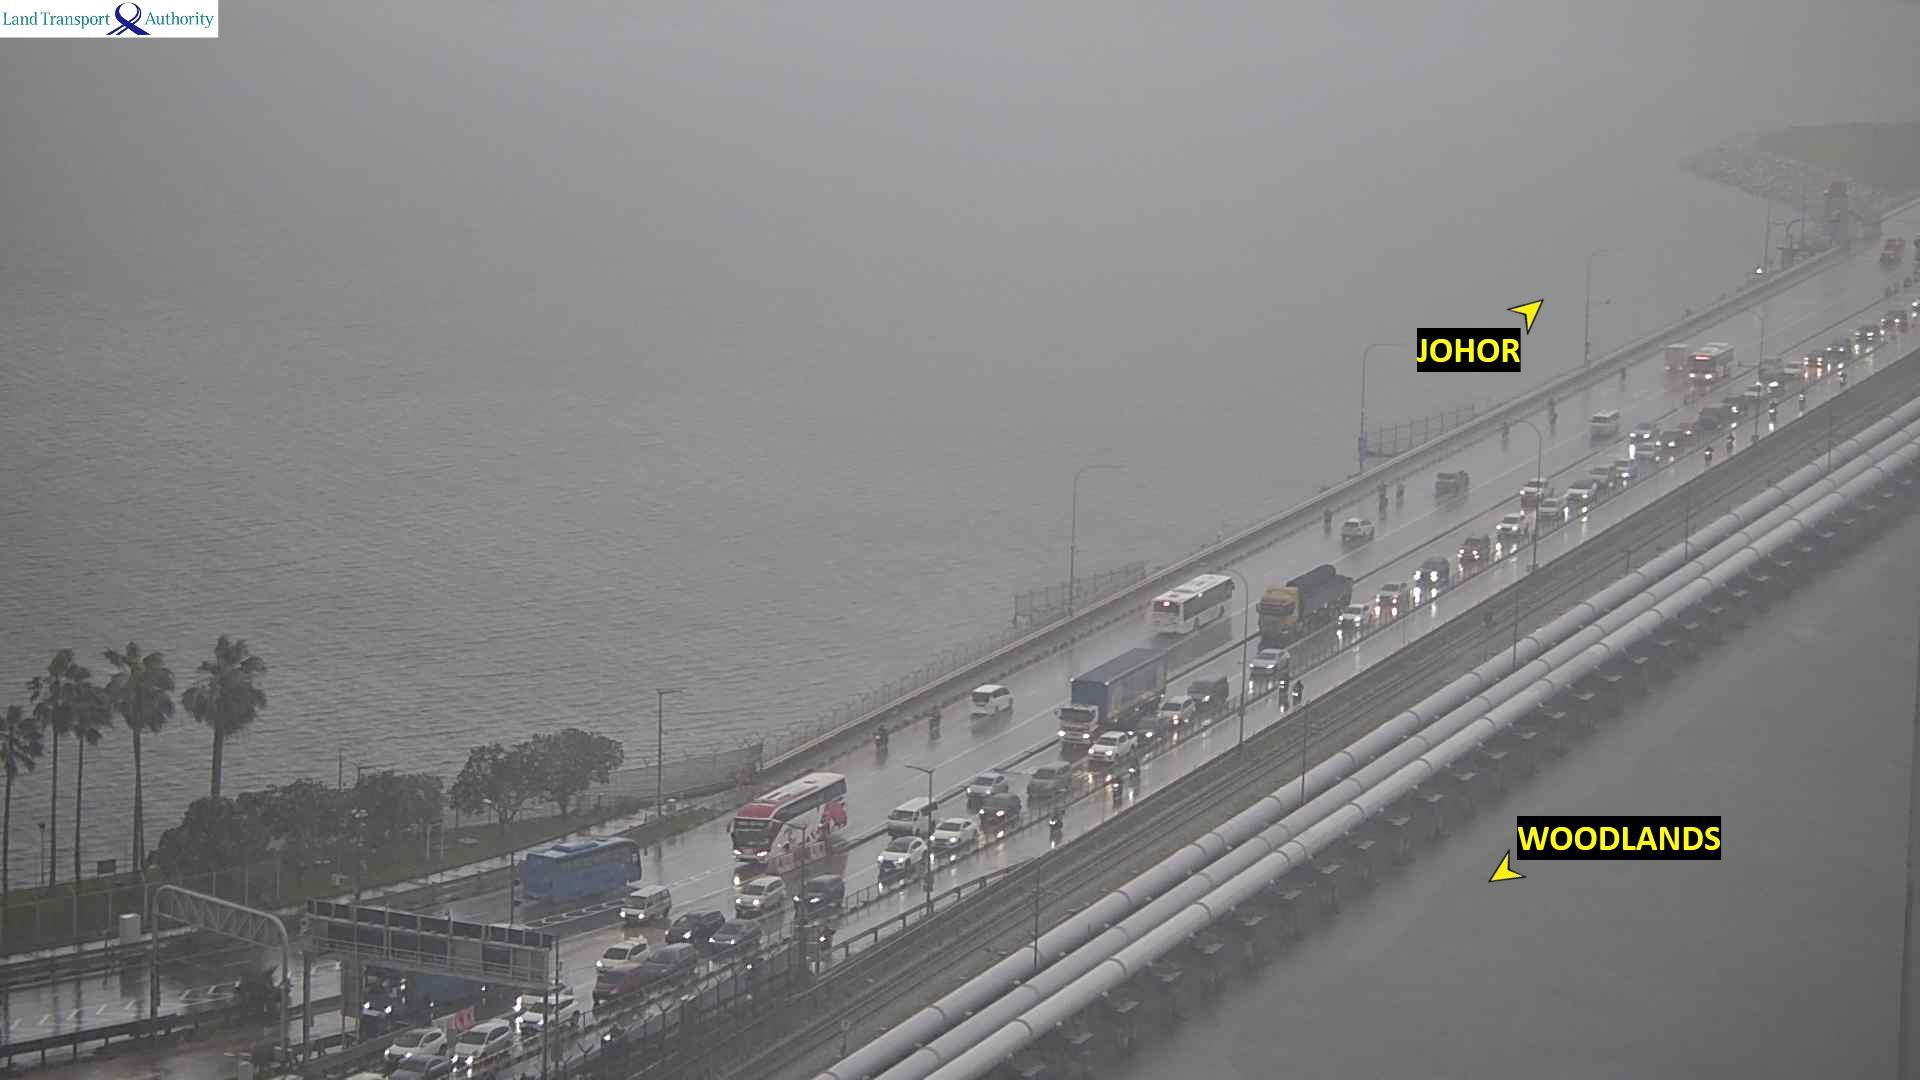vehicle-causeway-johor: (526, 837, 639, 900), (1156, 578, 1234, 610), (1689, 343, 1735, 383), (970, 685, 1011, 715), (1343, 520, 1377, 543), (1879, 238, 1904, 267), (1437, 472, 1474, 491), (1592, 411, 1620, 435), (1667, 343, 1688, 372), (872, 722, 887, 749), (1378, 483, 1390, 514), (928, 707, 940, 736), (1547, 399, 1558, 422), (1323, 505, 1333, 527), (1396, 481, 1406, 499), (1622, 368, 1627, 381)
vehicle-causeway-singapore: (1059, 651, 1168, 747), (733, 774, 845, 862), (1260, 565, 1352, 642), (360, 975, 504, 1024), (448, 1028, 515, 1067), (521, 997, 577, 1033), (662, 907, 722, 939), (388, 1030, 452, 1060), (735, 876, 782, 916), (888, 798, 937, 835), (795, 875, 844, 912), (644, 944, 695, 979), (620, 886, 669, 922), (596, 938, 648, 971), (594, 968, 645, 1001), (882, 837, 936, 867), (393, 1054, 457, 1079), (1029, 758, 1071, 796), (959, 769, 1010, 800), (931, 823, 981, 849), (1087, 736, 1135, 763), (1187, 675, 1226, 708), (467, 1021, 519, 1042), (1375, 581, 1408, 611), (1413, 557, 1448, 585), (1249, 650, 1291, 672), (1134, 715, 1165, 743), (1514, 479, 1556, 499), (978, 803, 1019, 822), (1161, 698, 1193, 722), (1626, 425, 1664, 445), (1339, 606, 1375, 626), (1497, 513, 1527, 537), (1461, 540, 1494, 561), (1540, 500, 1574, 518), (1657, 431, 1682, 455), (1570, 482, 1603, 500), (1593, 467, 1616, 487), (1882, 310, 1907, 328), (1723, 396, 1747, 414), (1682, 420, 1703, 439), (1856, 325, 1880, 341), (1829, 338, 1852, 354), (1617, 460, 1637, 476), (1804, 352, 1822, 367), (1128, 758, 1140, 778), (1784, 362, 1800, 377), (1797, 387, 1808, 407), (1112, 776, 1121, 800), (1278, 676, 1288, 694), (1768, 401, 1777, 420), (1703, 445, 1713, 462), (1295, 681, 1304, 698), (1725, 434, 1734, 451), (1837, 371, 1847, 386)
